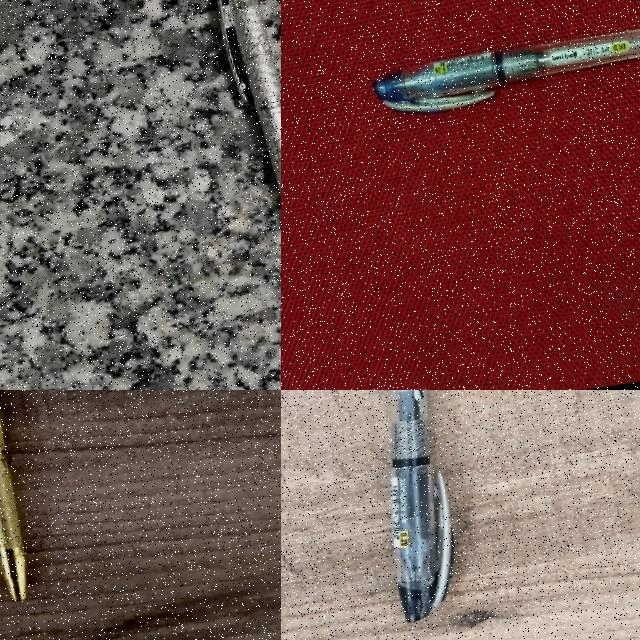pen: (374, 29, 640, 111), (392, 390, 452, 622)
signature pen: (219, 0, 280, 192), (0, 395, 27, 599)
